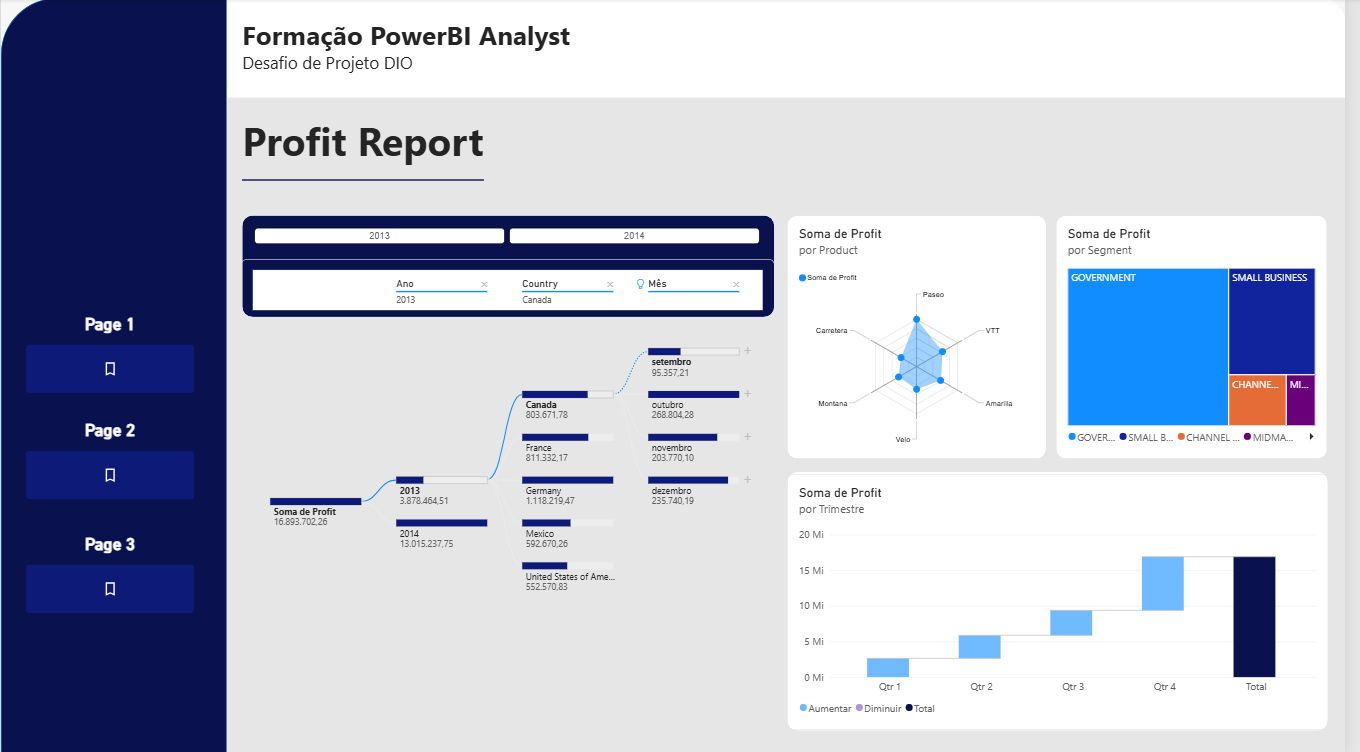

The dashboard page shown, as its layout file describes it:
{"tool":"powerbi","page":{"name":"Página 2","canvas":[1920,1080],"ordinal":1},"visuals":[{"type":"shape","box":[322.5,115,1597.5,965],"z":0},{"type":"shape","box":[0,0,322.5,1080],"z":1000},{"type":"shape","box":[322.5,0,1597.5,142.5],"z":2000},{"type":"textbox","box":[345,27.5,574.5,86.8],"z":3000},{"type":"textbox","box":[345,165,545,105],"z":4000},{"type":"shape","box":[345,250,345,20],"z":5000},{"type":"shape","box":[345,372.5,760,672.5],"z":6000},{"type":"shape","box":[1122.5,677.5,772.5,370],"z":7000},{"type":"shape","box":[345,310,760,145],"z":8000},{"type":"shape","box":[1122.5,310,370,347.5],"z":9000},{"type":"shape","box":[1507.5,310,387.5,347.5],"z":10000},{"type":"ChicletSlicer1448559807354","fields":{"Category":["financials.Date.Variation.Hierarquia de datas.Ano"]},"box":[342.5,310,760,62.5],"z":11000},{"type":"decompositionTreeVisual","fields":{"Analyze":["Sum(financials.Profit)"],"ExplainBy":["financials.Date.Variation.Hierarquia de datas.Ano","financials.Country","financials.Date.Variation.Hierarquia de datas.Mês","financials.Date.Variation.Hierarquia de datas.Dia","financials.Date.Variation.Hierarquia de datas.Trimestre"]},"box":[342.5,372.5,762.5,672.5],"z":12000},{"type":"treemap","fields":{"Group":["financials.Segment"],"Values":["Sum(financials.Profit)"]},"box":[1507.5,310,387.5,347.5],"z":13000},{"type":"actionButton","title":"Page 5","box":[35.5,751.3,240,112.5],"z":13250,"group":"g1"},{"type":"actionButton","title":"Page 4","box":[35.5,596.8,240,112.5],"z":13500,"group":"g1"},{"type":"actionButton","title":"Page 3","box":[35,452.5,240,112.5],"z":14000,"group":"g1"},{"type":"waterfallChart","fields":{"Category":["financials.Date.Variation.Hierarquia de datas.Trimestre"],"Y":["Sum(financials.Profit)"]},"box":[1122.5,680,772.5,365],"z":14000},{"type":"actionButton","title":"Page 2","box":[35.5,308.8,240,112.5],"z":15000,"group":"g1"},{"type":"RadarChart1446119667547","fields":{"Y":["Sum(financials.Profit)"],"Category":["financials.Product"]},"box":[1122.5,310,370,347.5],"z":15000},{"type":"group","id":"g1","title":"Grupo 3","box":[35,169,240.5,694.8],"z":16000},{"type":"actionButton","title":"Page 1","box":[35.5,169,240,112.5],"z":16000,"group":"g1"}]}

Visuals, with their boxes on the page's 1920x1080 design canvas (x1, y1, x2, y2). These are canvas units, not pixel positions in the 1360x752 screenshot, which may show the page scaled, cropped or inside an application window:
shape: 322:115:1920:1080
shape: 0:0:322:1080
shape: 322:0:1920:142
textbox: 345:28:920:114
textbox: 345:165:890:270
shape: 345:250:690:270
shape: 345:372:1105:1045
shape: 1122:678:1895:1048
shape: 345:310:1105:455
shape: 1122:310:1492:658
shape: 1508:310:1895:658
ChicletSlicer1448559807354 - financials.Date.Variation.Hierarquia de datas.Ano: 342:310:1102:372
decompositionTreeVisual - Sum(financials.Profit) x financials.Date.Variation.Hierarquia de datas.Ano: 342:372:1105:1045
treemap - financials.Segment x Sum(financials.Profit): 1508:310:1895:658
"Page 5" actionButton: 36:751:276:864
"Page 4" actionButton: 36:597:276:709
"Page 3" actionButton: 35:452:275:565
waterfallChart - financials.Date.Variation.Hierarquia de datas.Trimestre x Sum(financials.Profit): 1122:680:1895:1045
"Page 2" actionButton: 36:309:276:421
RadarChart1446119667547 - Sum(financials.Profit) x financials.Product: 1122:310:1492:658
"Grupo 3" group: 35:169:276:864
"Page 1" actionButton: 36:169:276:282
